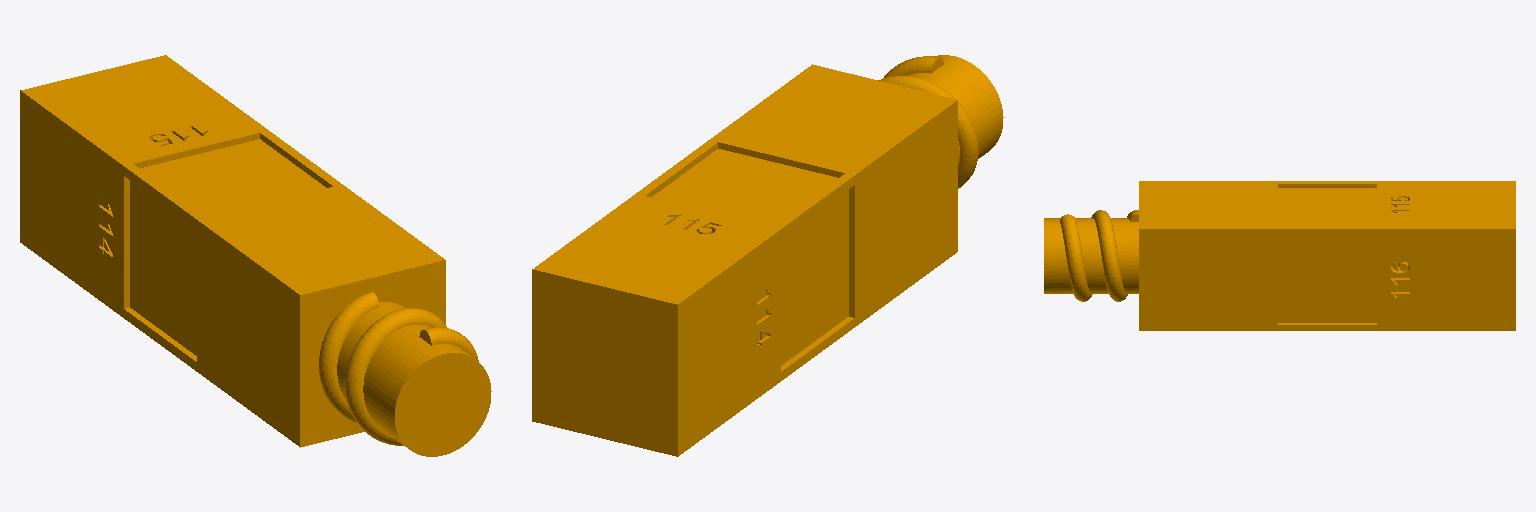
URDF robot description (desk_leg1):
<?xml version="1.0"?>
<robot name="desk_leg1">
    <link name="desk_leg1">
        <visual>
            <geometry>
                <mesh filename="../../mesh/desk/desk_leg1.obj" scale="1 1 1"/>
            </geometry>
        </visual>
        <collision>
            <geometry>
                <mesh filename="../../mesh/desk/desk_leg1.obj" scale="1 1 1"/>
            </geometry>
            <sdf resolution="512"/>
        </collision>
    </link>
</robot>

--- Facts derived from the render (not from the file) ---
3 views of the same robot in one strip: view 1: azimuth 30°, elevation 25°; view 2: azimuth 150°, elevation 25°; view 3: azimuth 270°, elevation 25° (orthographic).
Robot: desk_leg1 — 1 links, 0 joints (none); root link desk_leg1; default pose: every joint at zero.
Links seen in each view (by area): view 1: desk_leg1; view 2: desk_leg1; view 3: desk_leg1.
Link boxes in pixels (x1=…): desk_leg1: x1=20, y1=55, x2=491, y2=456; desk_leg1: x1=532, y1=55, x2=1003, y2=456; desk_leg1: x1=1044, y1=181, x2=1515, y2=330.
Bounding box of the posed robot: 0.03 × 0.125 × 0.03 m (x, y, z).
Meshes: 1 distinct files referenced, 1 mesh visuals loaded (1 OBJ).